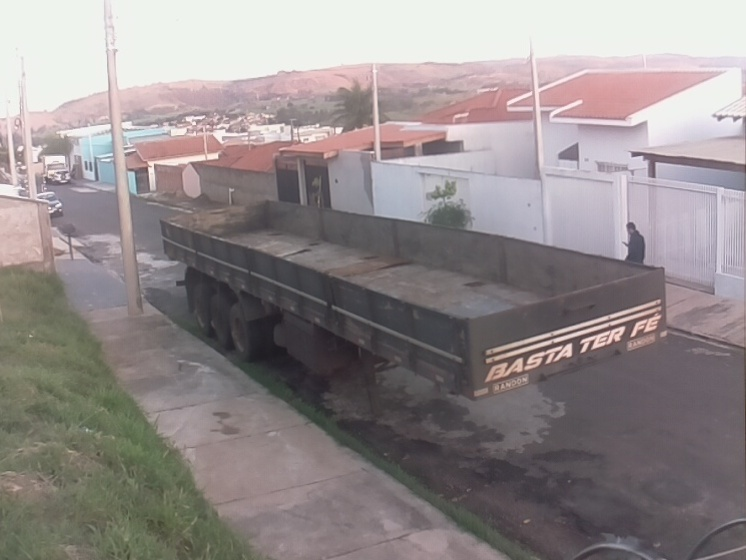person: (620, 219, 648, 265)
